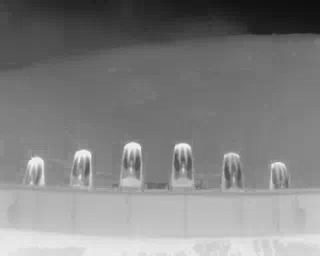claw: (119, 140, 144, 187), (173, 141, 196, 188), (71, 148, 92, 188), (22, 156, 45, 190), (222, 151, 242, 189), (269, 161, 292, 189)
